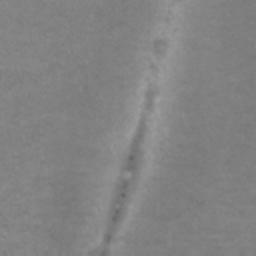Finishing roll printing: (100, 83, 159, 256), (152, 37, 169, 58), (148, 65, 160, 74)
